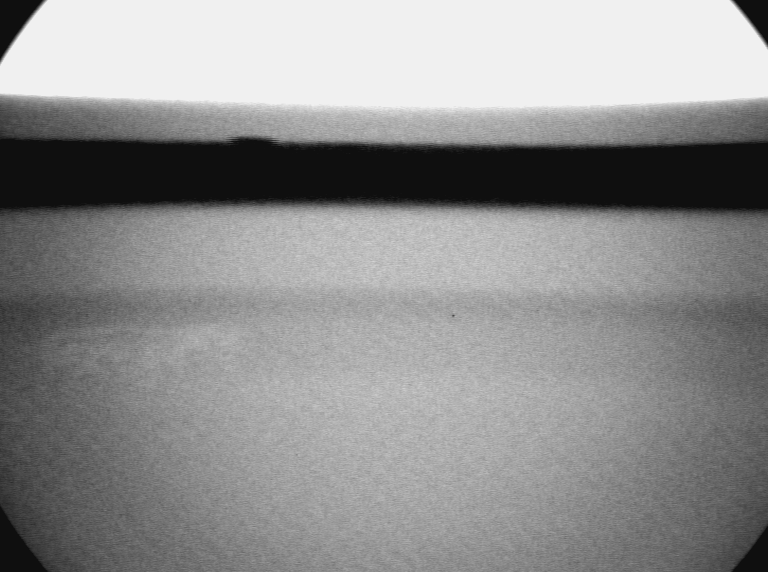defect: (34, 317, 247, 395)
